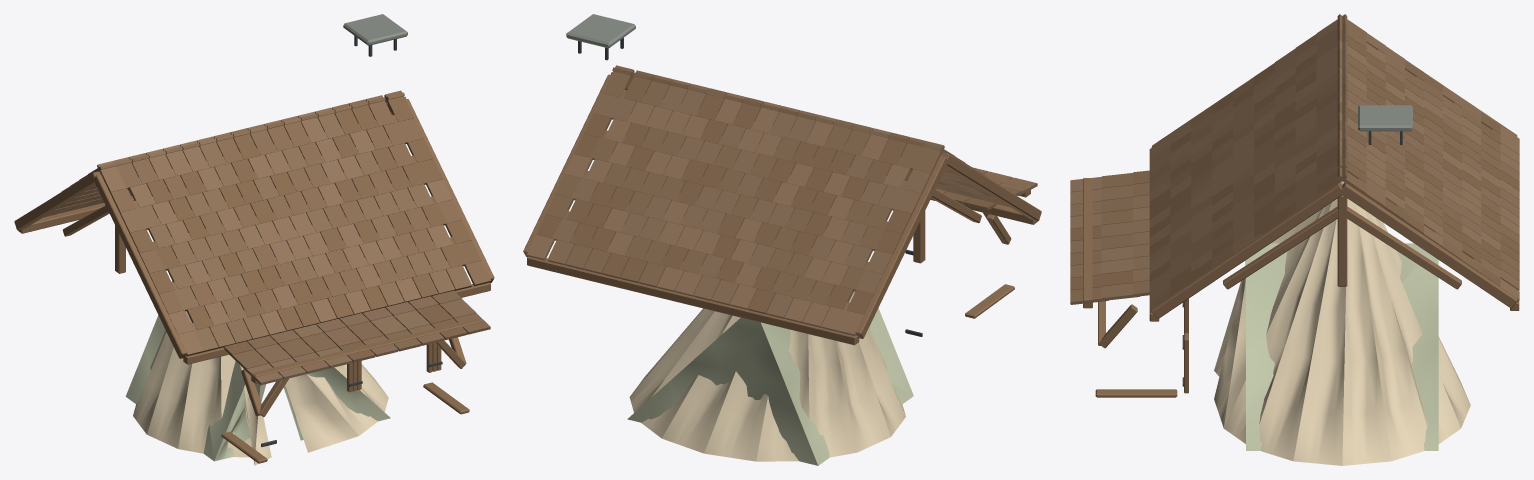
File: cabin-details.glb
The picture shows the model from 3 angles, left to right: view 1: azimuth 30°, elevation 25°; view 2: azimuth 150°, elevation 25°; view 3: azimuth 270°, elevation 25°; orthographic projection. The views are drawn at different scales.
Parts seen in each view (by area): view 1: CabinRoofFront, TeepeeCanvas, PorchRoof, CabinJoinery, TentCanvas, PorchJoinery, CabinRoofBack, CabinHardware; view 2: CabinRoofBack, TeepeeCanvas, TentCanvas, CabinJoinery, CabinRoofFront, CabinHardware, PorchJoinery, PorchRoof; view 3: TeepeeCanvas, CabinRoofFront, CabinRoofBack, CabinJoinery, TentCanvas, PorchRoof, PorchJoinery, CabinHardware.
Boxes of the visible parts, left/top/right/bottom form: CabinRoofFront: left=97, top=90, right=491, bottom=356; TeepeeCanvas: left=133, top=311, right=388, bottom=465; PorchRoof: left=223, top=290, right=490, bottom=385; CabinJoinery: left=14, top=96, right=494, bottom=392; TentCanvas: left=125, top=281, right=390, bottom=461; PorchJoinery: left=221, top=317, right=484, bottom=463; CabinRoofBack: left=43, top=92, right=404, bottom=217; CabinHardware: left=261, top=14, right=442, bottom=446; CabinRoofBack: left=527, top=65, right=944, bottom=336; TeepeeCanvas: left=629, top=291, right=905, bottom=461; TentCanvas: left=627, top=308, right=913, bottom=465; CabinJoinery: left=523, top=72, right=1041, bottom=345; CabinRoofFront: left=612, top=67, right=1010, bottom=207; CabinHardware: left=566, top=14, right=922, bottom=336; PorchJoinery: left=965, top=173, right=1030, bottom=318; PorchRoof: left=935, top=167, right=1037, bottom=210; TeepeeCanvas: left=1214, top=181, right=1470, bottom=465; CabinRoofFront: left=1149, top=14, right=1347, bottom=312; CabinRoofBack: left=1337, top=14, right=1519, bottom=302; CabinJoinery: left=1149, top=72, right=1519, bottom=393; TentCanvas: left=1245, top=243, right=1438, bottom=450; PorchRoof: left=1070, top=170, right=1149, bottom=304; PorchJoinery: left=1083, top=178, right=1177, bottom=397; CabinHardware: left=1182, top=105, right=1412, bottom=386.
Bounding box in the file's own units: 5.16 × 5.09 × 5.74.
